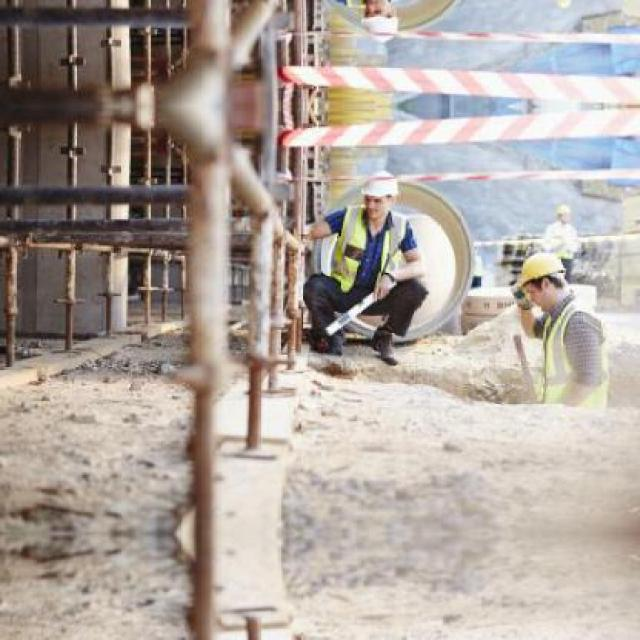Reflective-Jacket: (309, 207, 431, 305), (529, 302, 622, 418)
Safety-Helmet: (506, 247, 571, 296), (348, 162, 408, 207), (550, 199, 578, 224)
